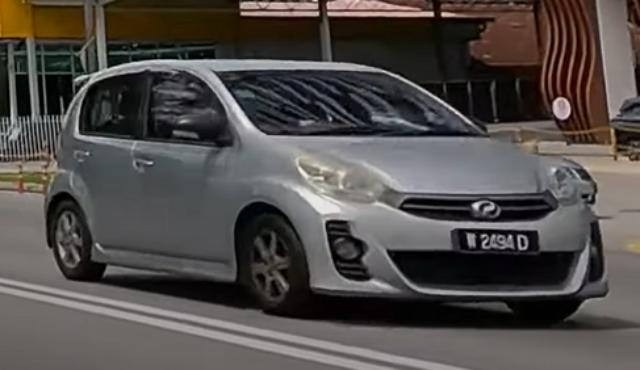License_Plate: (451, 227, 540, 257)
car: (45, 58, 611, 323)
